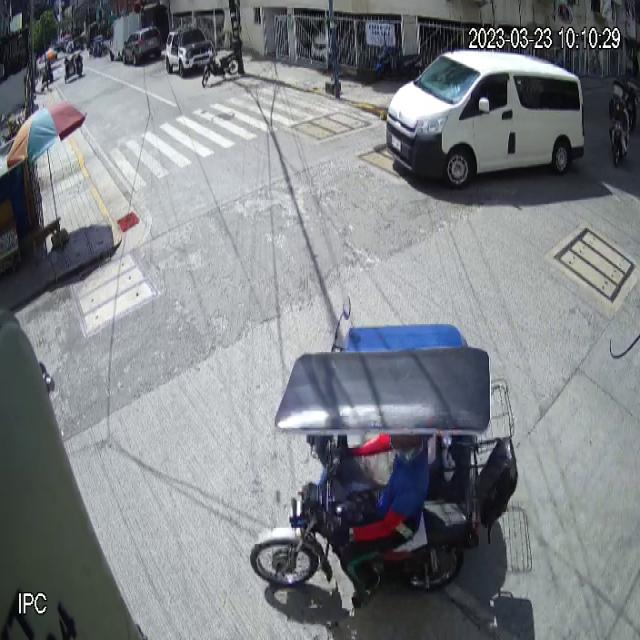Tricycle: (250, 323, 518, 606)
Van: (385, 48, 585, 192)
